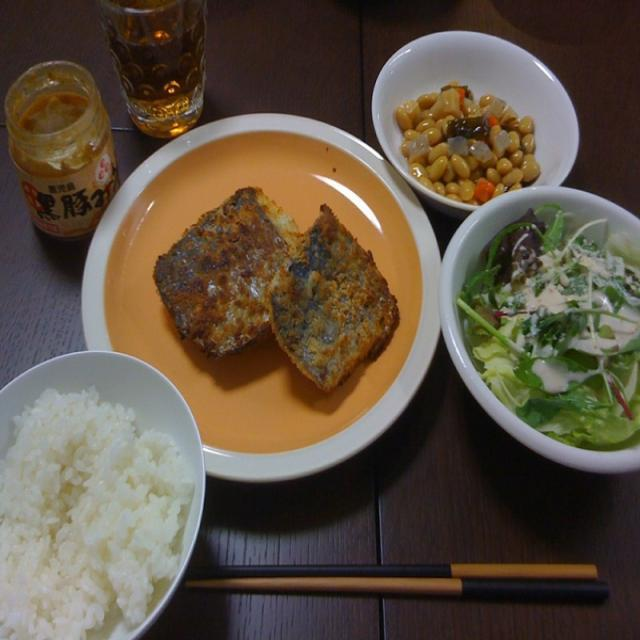Rice: (0, 344, 202, 640)
